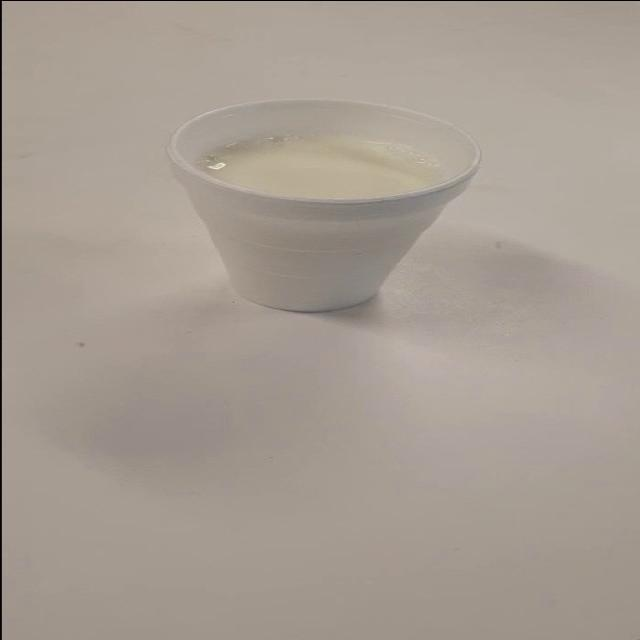Milk: (146, 88, 533, 336)
